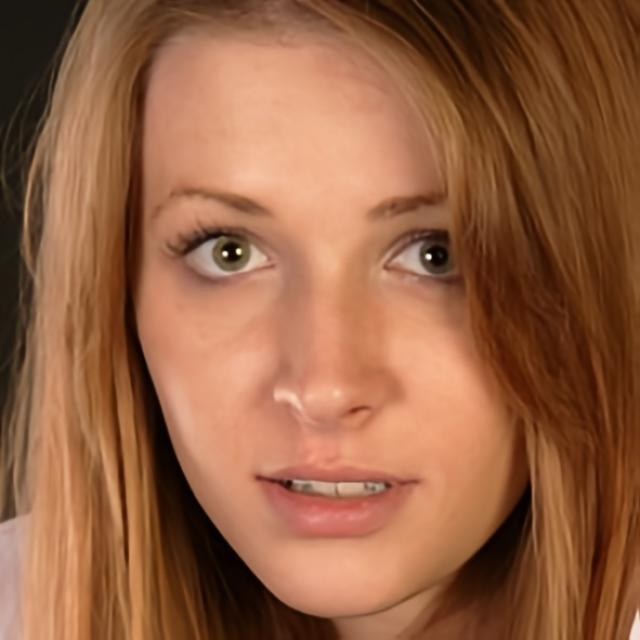surprise: (129, 0, 536, 618)
